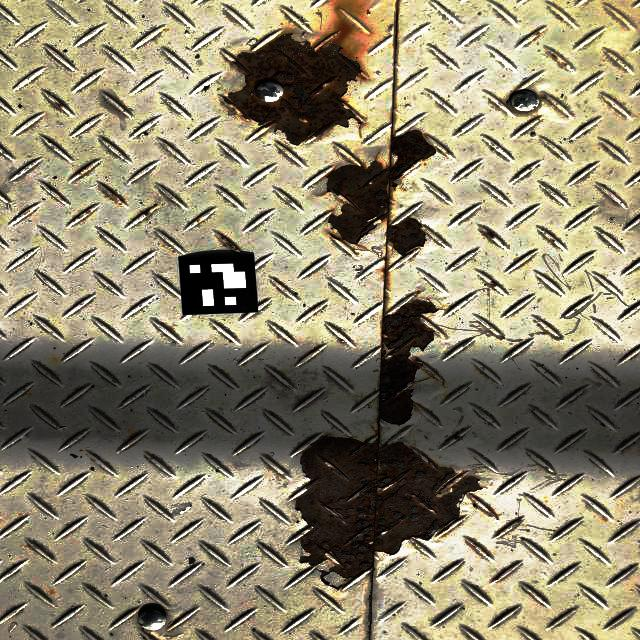Corrosion: (296, 437, 481, 590), (226, 33, 361, 144), (327, 130, 436, 243), (379, 300, 437, 425), (387, 217, 425, 255), (220, 234, 239, 251), (330, 233, 343, 242), (485, 231, 496, 240), (490, 280, 499, 288), (140, 210, 152, 216)
